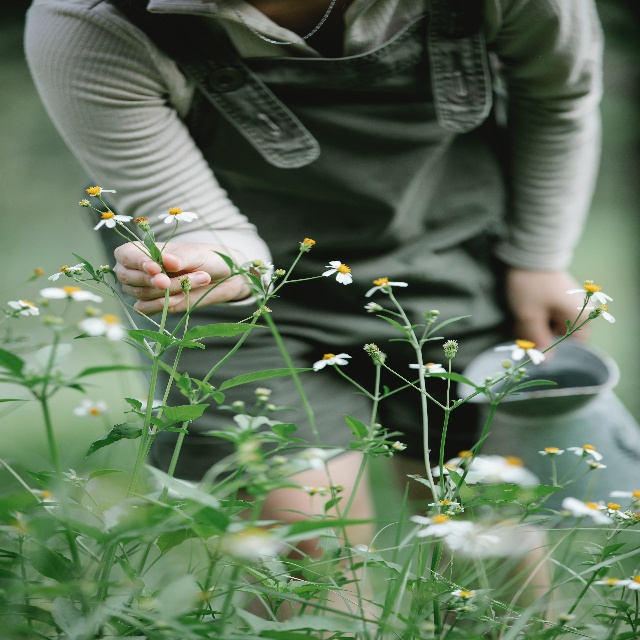Sin_guantes: (113, 241, 242, 317), (505, 263, 591, 361)
